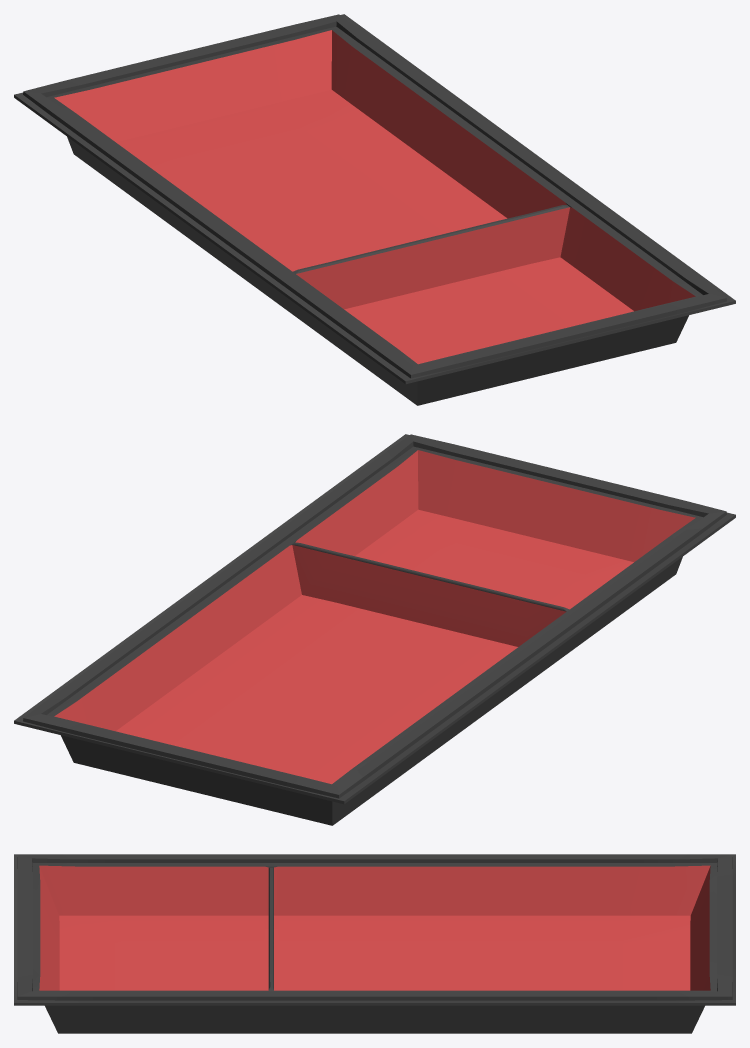
The model's file is BentoBox.fbx.
The picture shows the model from 3 angles, top to bottom: view 1: azimuth 30°, elevation 25°; view 2: azimuth 150°, elevation 25°; view 3: azimuth 270°, elevation 25°; orthographic projection. The views are drawn at different scales.
Visible parts, largest first — view 1: BentoBox; view 2: BentoBox; view 3: BentoBox.
Part boxes in pixels (x1=…): BentoBox: x1=14, y1=14, x2=735, y2=405; BentoBox: x1=14, y1=434, x2=735, y2=825; BentoBox: x1=14, y1=854, x2=735, y2=1033.
Bounding box in the file's own units: 766 × 121 × 1573.
1 material, 1 textured.
